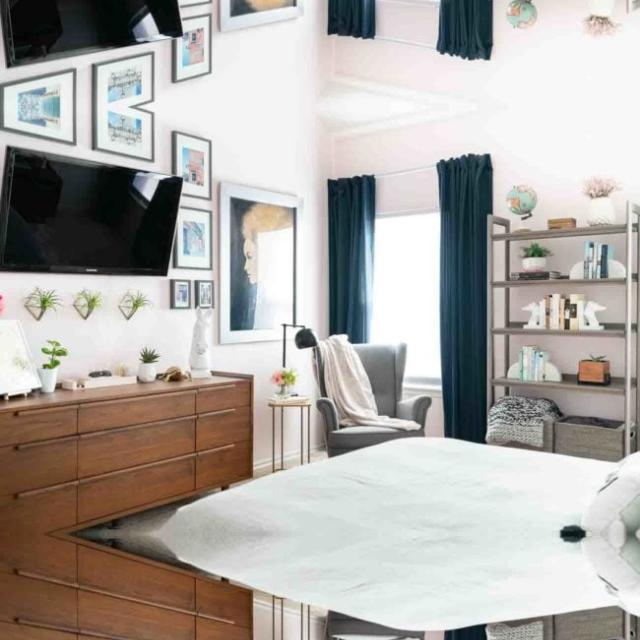dresser: (0, 366, 253, 532), (0, 534, 253, 640)
